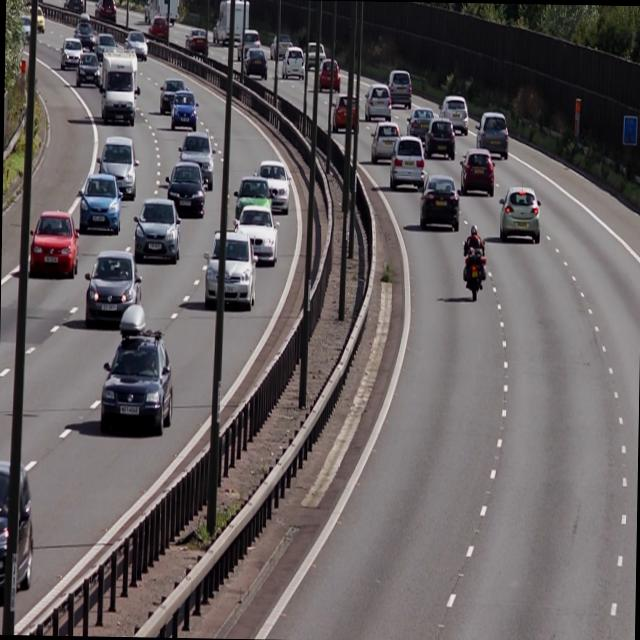Vehicle: (99, 303, 171, 429), (200, 231, 258, 312), (84, 248, 142, 328), (26, 206, 84, 282), (0, 465, 31, 601), (130, 195, 180, 262), (74, 170, 123, 237), (98, 46, 136, 124), (230, 206, 280, 264), (93, 136, 138, 200), (497, 185, 544, 241), (416, 174, 459, 232), (166, 162, 207, 220), (389, 135, 422, 190), (458, 148, 496, 194), (326, 90, 362, 136), (473, 111, 508, 158), (424, 113, 454, 160), (368, 117, 400, 161), (170, 86, 197, 134), (278, 43, 306, 88), (439, 92, 468, 134), (388, 68, 417, 110), (362, 83, 392, 123)
